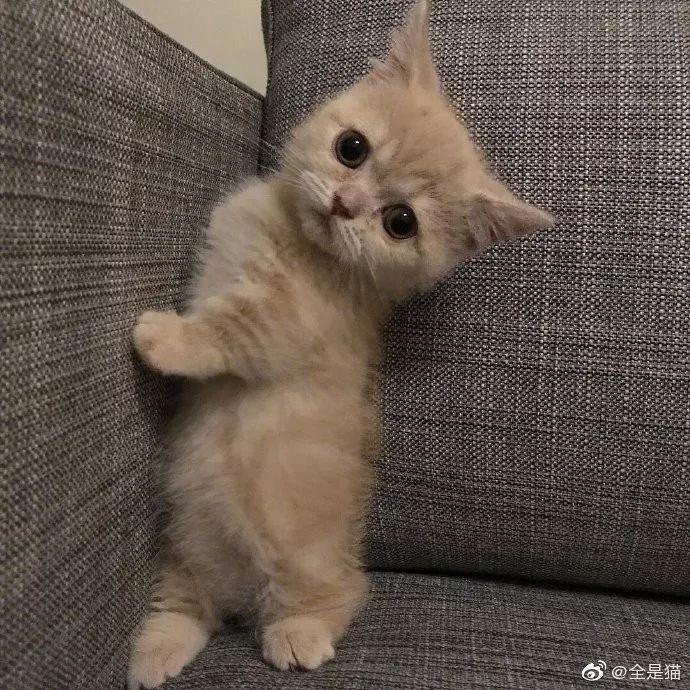cat: (124, 1, 558, 686)
